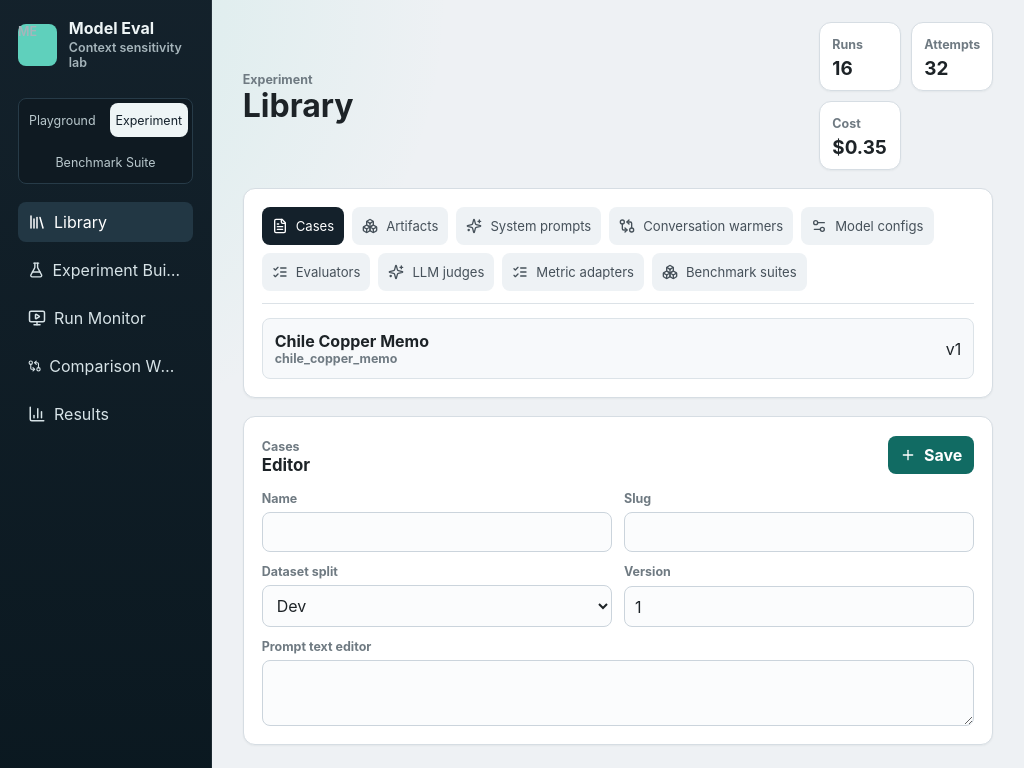
App run monitor › disables review use for incomplete API experiments
The image size is (1024, 768).
Click the button "Run Monitor" at (106, 318), box [18,298,193,338]
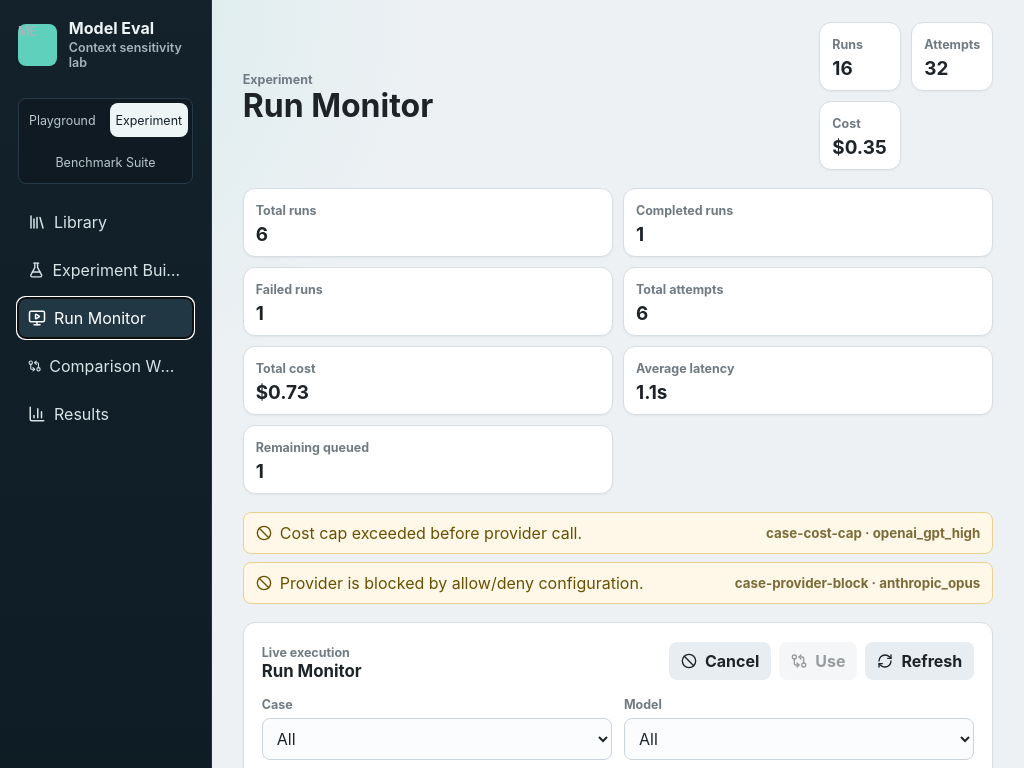
Check: the button with aria-label "Use Copper monitor for review and results" is disabled, box [779,642,858,680]
